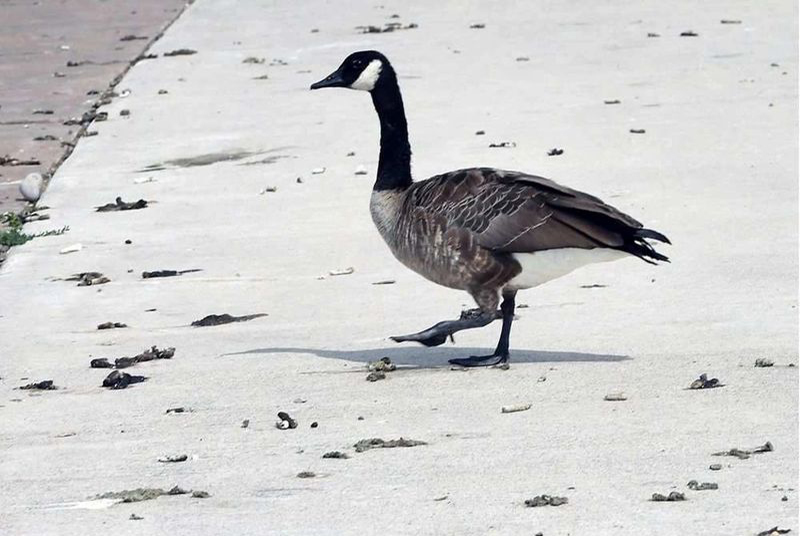goose: (301, 36, 681, 377)
